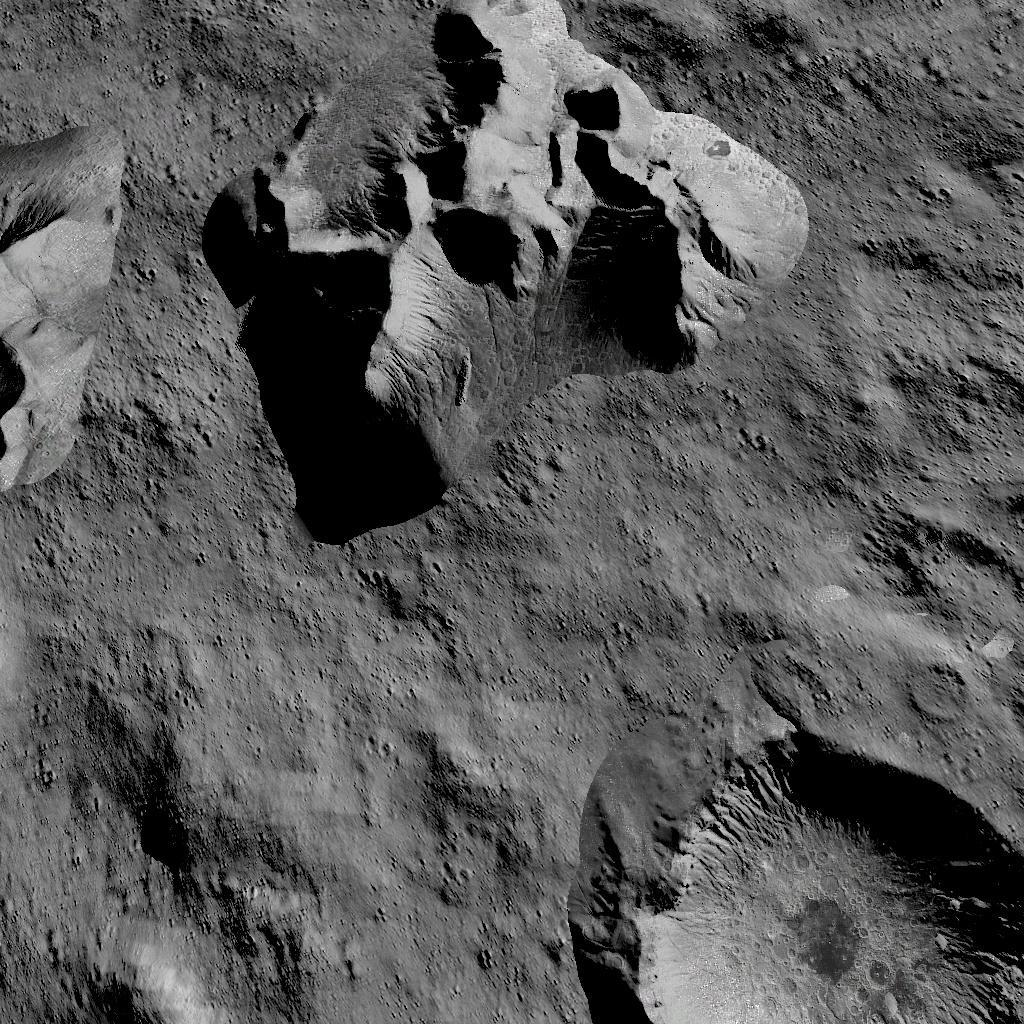Boulders: (180, 2, 824, 538), (75, 680, 318, 880), (0, 52, 100, 462)
Crater: (552, 634, 1024, 1024), (0, 911, 322, 1018)
Plan surface: (348, 683, 536, 1024), (28, 547, 544, 663)
